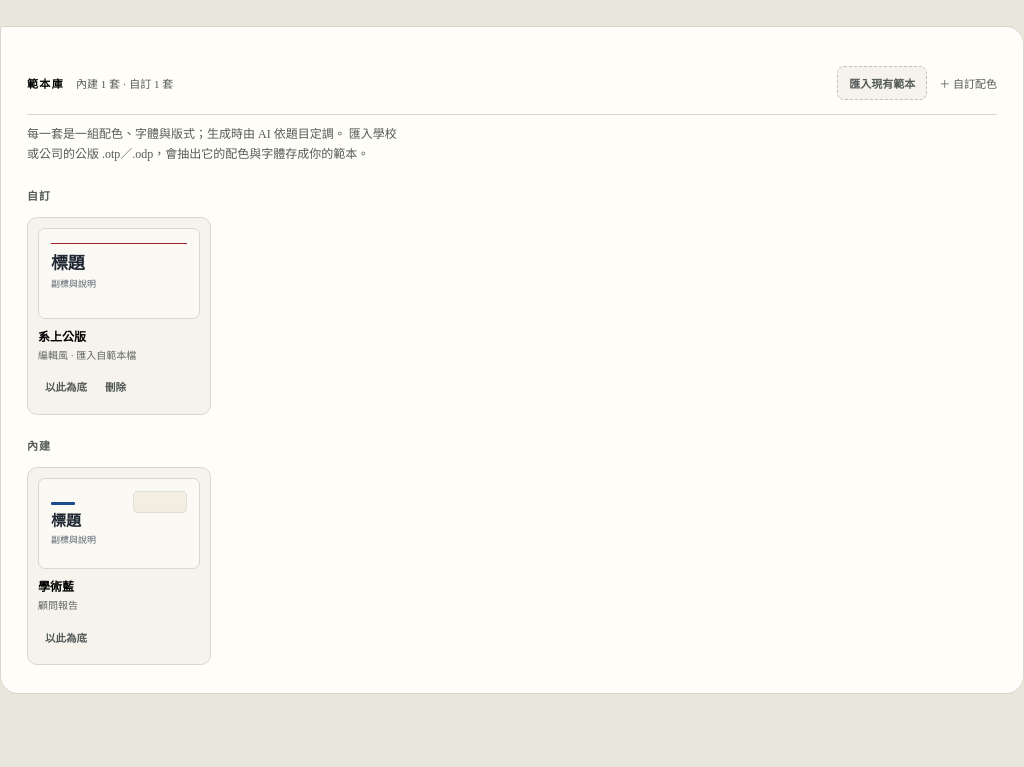
Test: 以某一套為底時，連它的版式一起帶過來
Expected: the text "系上公版" is shown, [38,330,86,344]
Click the button "以此為底" below "編輯風": (66, 387) [38,370,94,404]
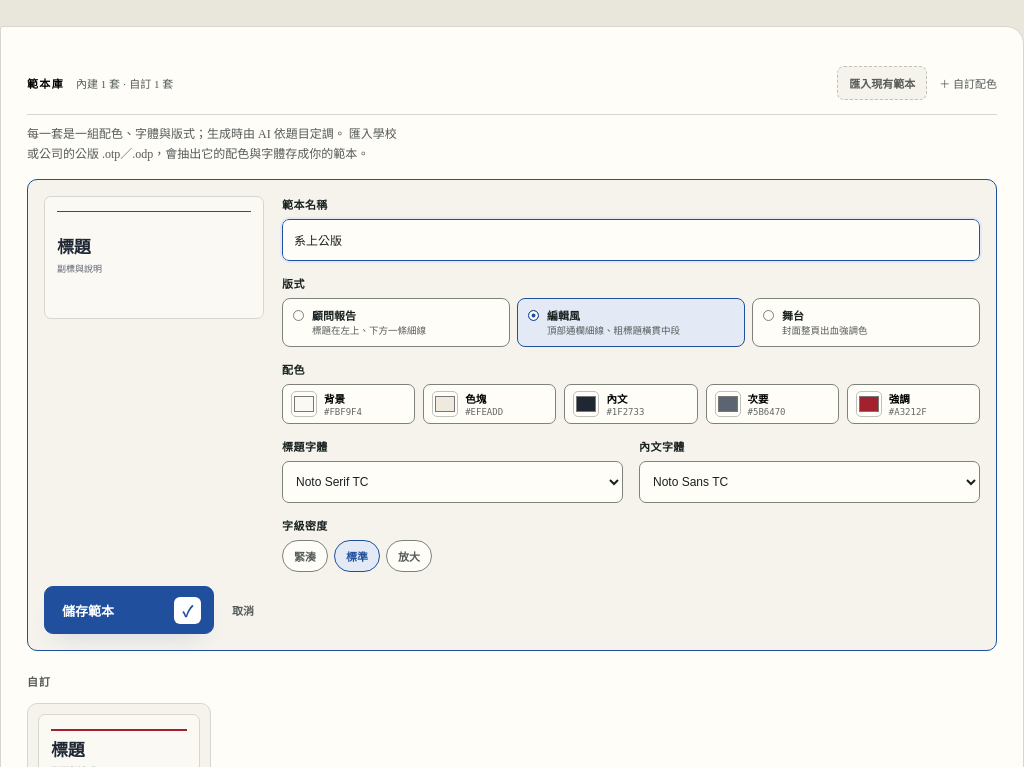
Expected: the radio button labelled "編輯風 頂部通欄細線、粗標題橫貫中段" is checked, [517,298,745,347]
